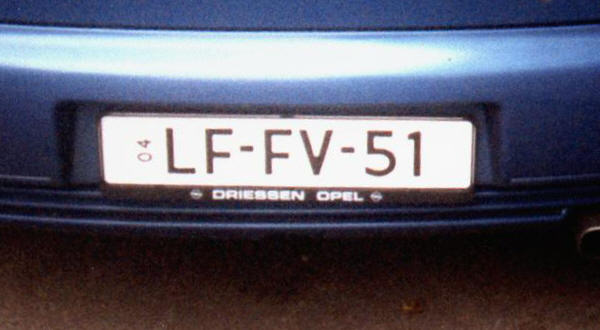license_plate: (97, 112, 474, 190)
